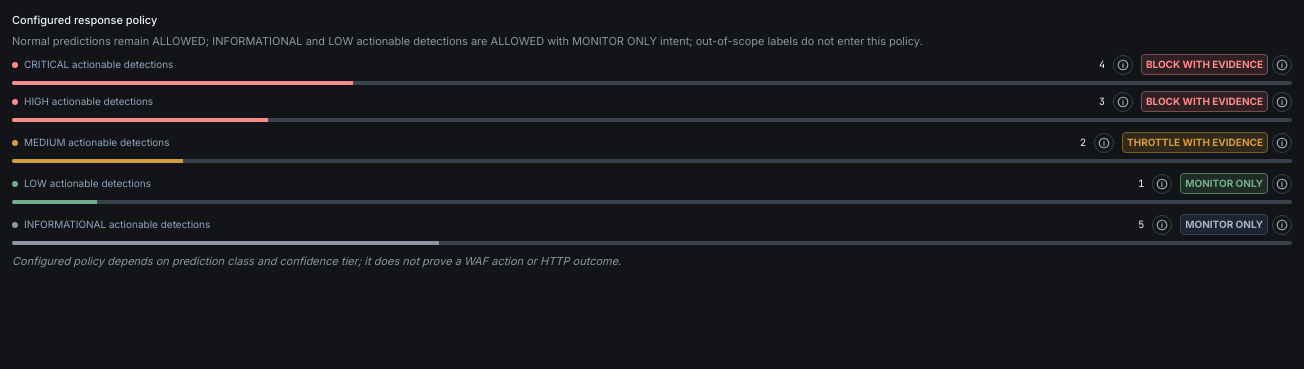
it: MLEnforcementMap › explains tier counts and each distinct response intent without claiming a runtime outcome
The image size is (1304, 369).
Expected: the number of buttons named "About Block with evidence" is 2, [1272,55,1292,75]; [1272,92,1292,112]
Expected: the number of buttons named "About Throttle with evidence" is 1, [1272,133,1292,153]
Step 1. Click the button named "About HIGH actionable detections" → (1123, 102), box [1113,92,1133,112]
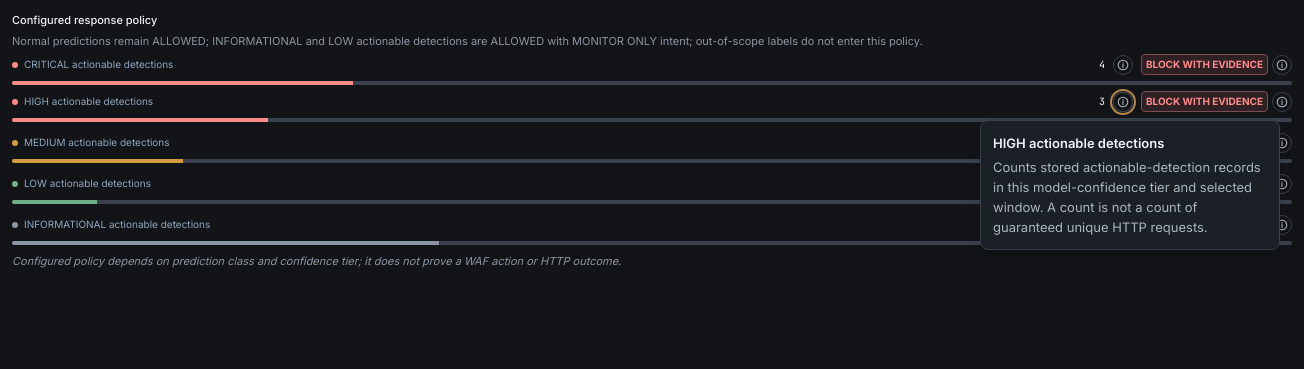
Result: the element named "HIGH actionable detections explanation" shows "not a count of guaranteed unique HTTP requests" at [993,159,1261,235]
Step 2. Click the button named "About Block with evidence" in the row of "CRITICAL actionable detections" → (1282, 65), box [1272,55,1292,75]
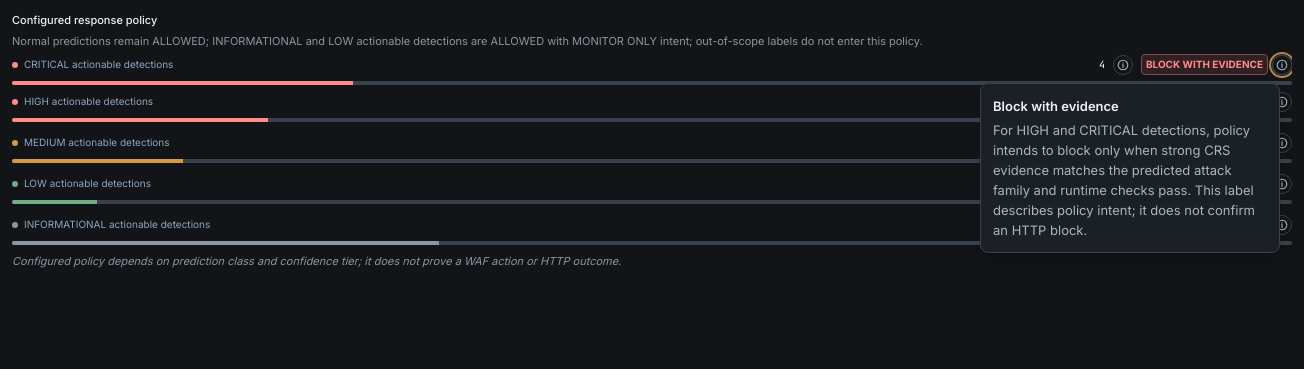
Result: the element named "Block with evidence explanation" shows "strong CRS evidence matches the predicted attack family" at [993,122,1255,238]
Result: the element named "Block with evidence explanation" shows "does not confirm an HTTP block" at [993,122,1255,238]
Step 3. Click the button named "About Throttle with evidence" → (1282, 143), box [1272,133,1292,153]
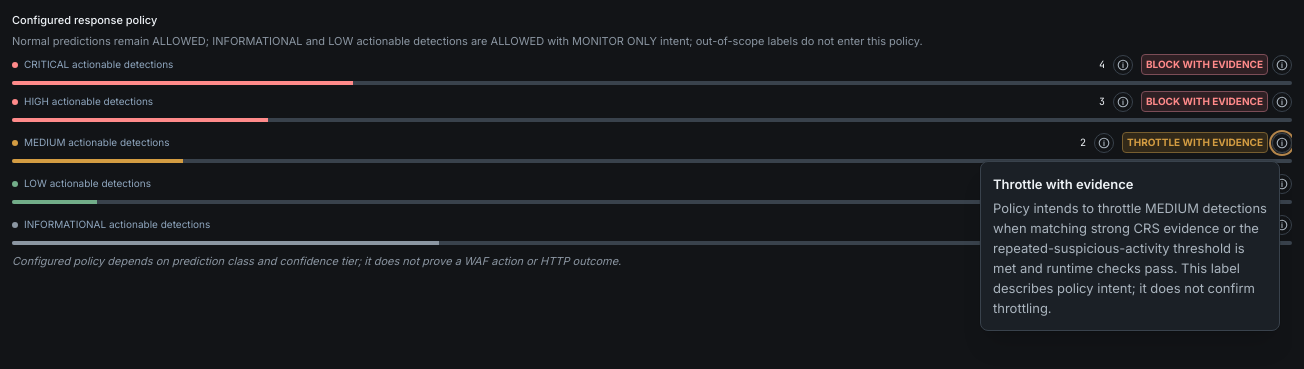
Result: the element named "Throttle with evidence explanation" shows "repeated-suspicious-activity threshold" at [993,200,1267,316]
Result: the element named "Throttle with evidence explanation" shows "does not confirm throttling" at [993,200,1267,316]
Step 4. Click the 1st button named "About Monitor only" → (1282, 184), box [1272,174,1292,194]
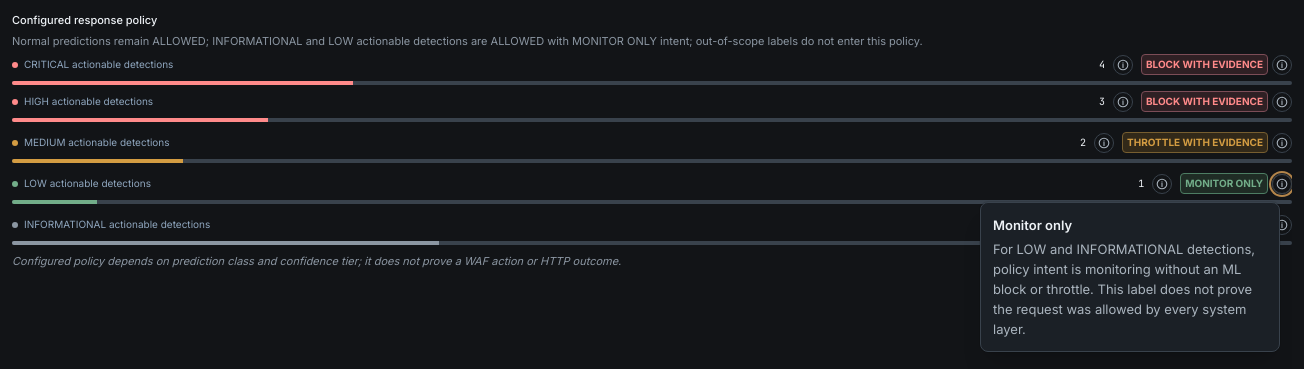
Result: the element named "Monitor only explanation" shows "does not prove the request was allowed by every system layer" at [993,241,1255,337]
